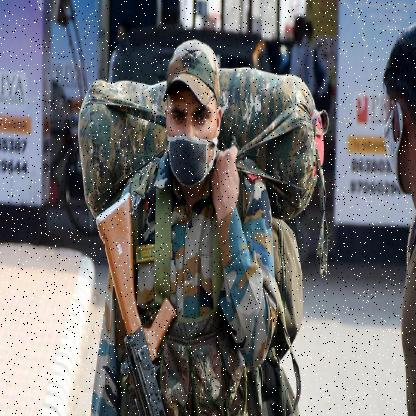rifle: (93, 190, 179, 415)
